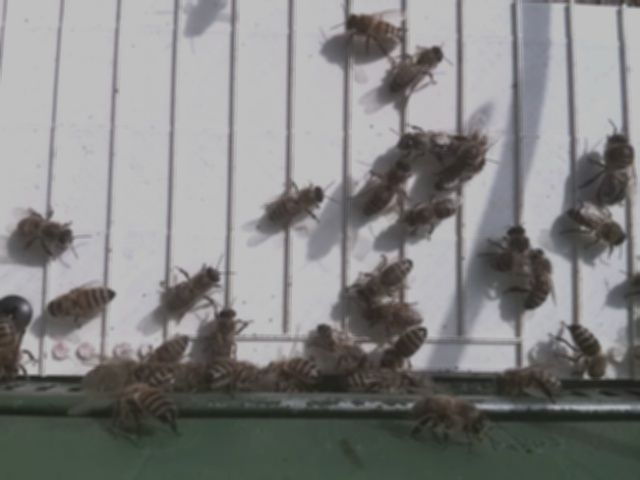Drone: (596, 128, 636, 208)
Worker: (360, 156, 414, 219), (387, 43, 447, 98), (166, 263, 223, 316), (313, 319, 370, 371), (46, 281, 120, 320), (565, 204, 630, 246), (358, 254, 416, 300), (269, 183, 328, 228), (10, 216, 81, 250), (568, 320, 607, 380), (522, 248, 558, 312), (380, 324, 430, 370), (343, 11, 406, 46), (403, 194, 463, 230), (396, 126, 461, 158), (208, 305, 239, 368), (356, 300, 425, 328), (0, 316, 22, 377)
